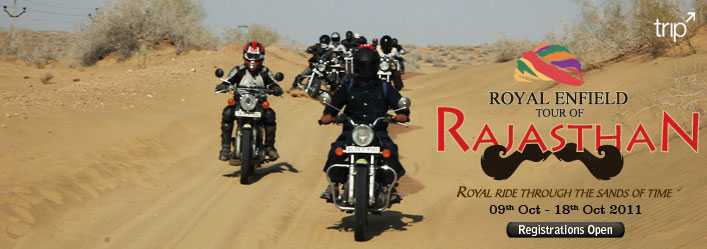helmet: (240, 37, 263, 71), (352, 44, 375, 78), (374, 33, 396, 50)
